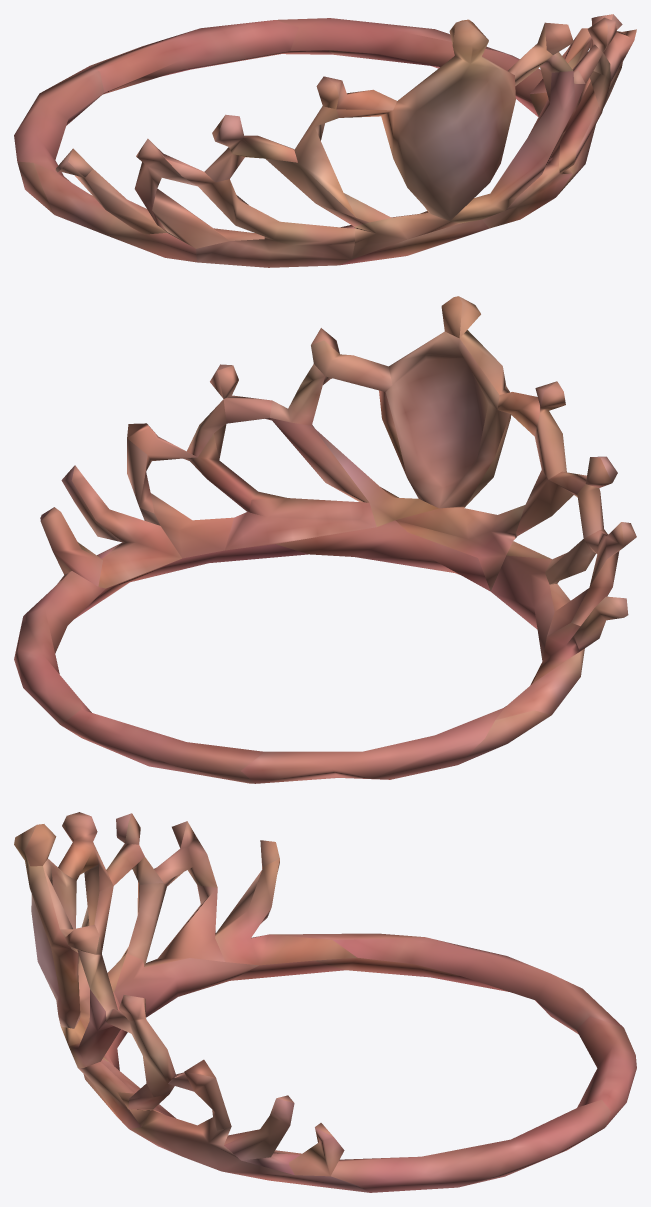
3 views of the same model, one above another, from view 1: azimuth 30°, elevation 25°; view 2: azimuth 150°, elevation 25°; view 3: azimuth 270°, elevation 25° (orthographic). The views are drawn at different scales.
Parts seen in each view (by area): view 1: Pink-Tiara-16; view 2: Pink-Tiara-16; view 3: Pink-Tiara-16.
Boxes of the visible parts, x1=… form: Pink-Tiara-16: x1=14, y1=14, x2=636, y2=267; Pink-Tiara-16: x1=14, y1=296, x2=636, y2=783; Pink-Tiara-16: x1=14, y1=812, x2=636, y2=1192.
Size of the model in its own units: 0.2607 by 0.1168 by 0.2518.
1 material, 1 textured.
